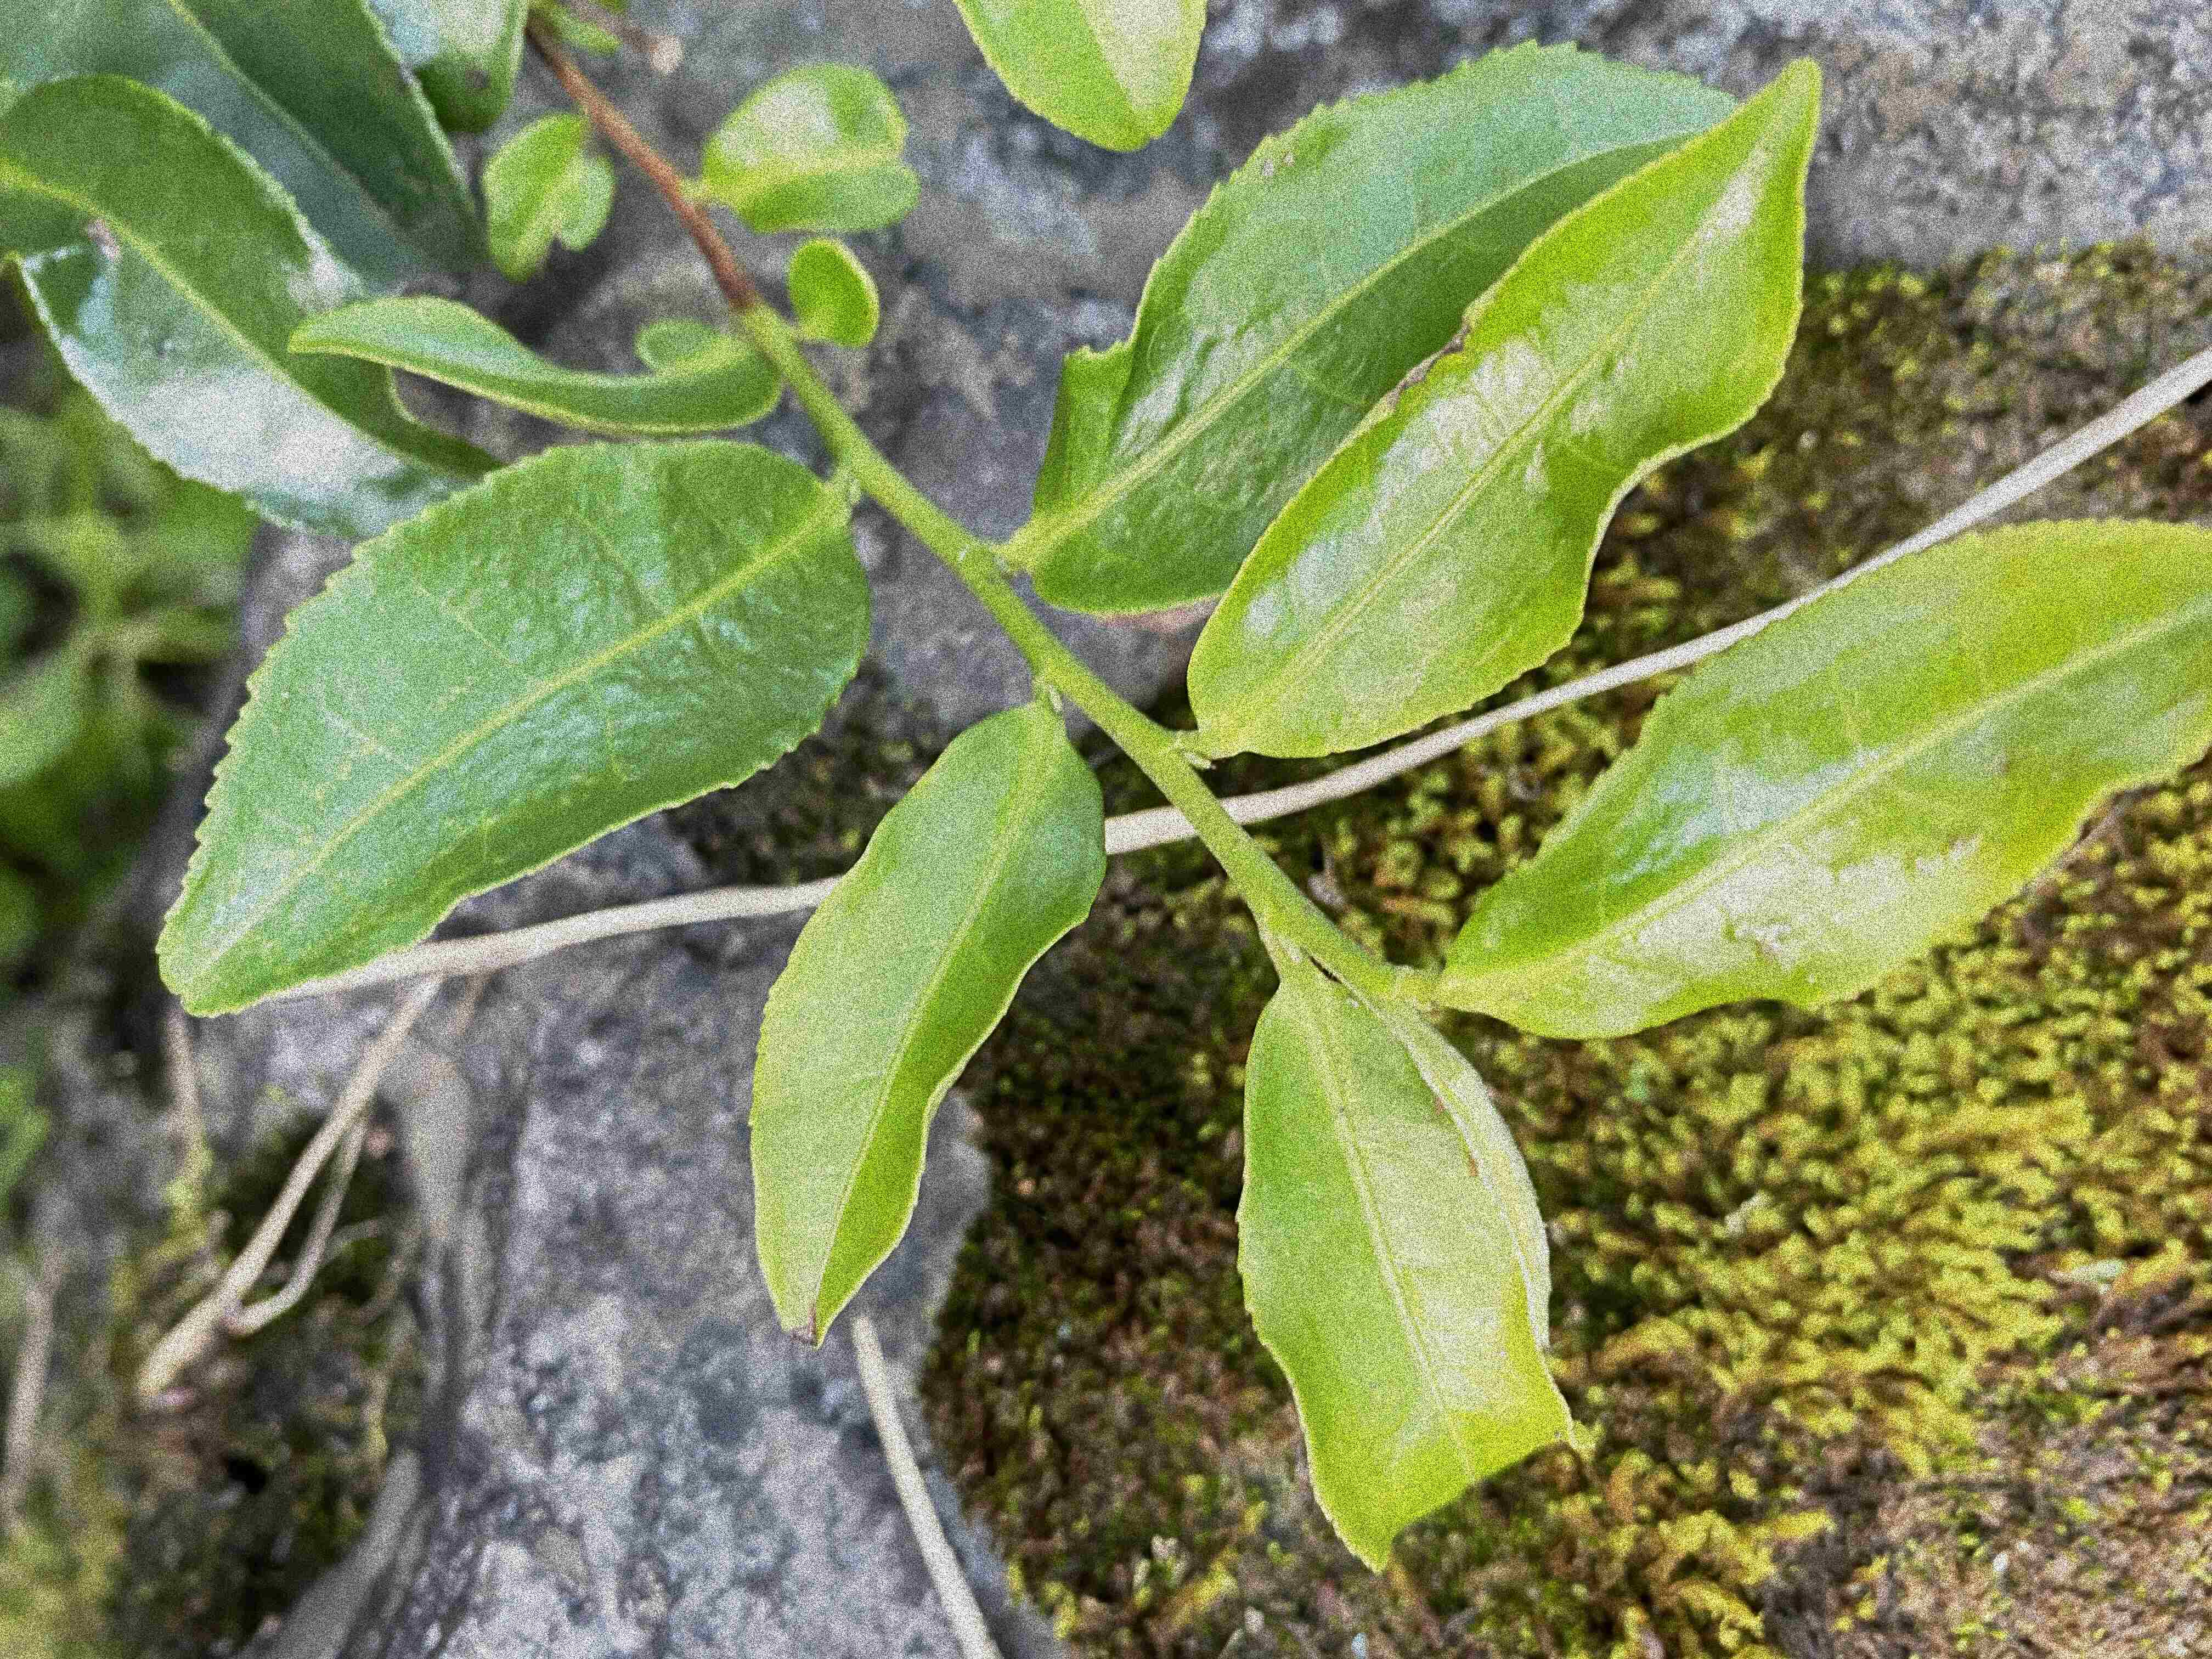healthy: (150, 436, 876, 1025)
tanju_low: (1184, 58, 1822, 762), (1444, 516, 2212, 1042), (744, 708, 1113, 1351), (1231, 972, 1599, 1577)
